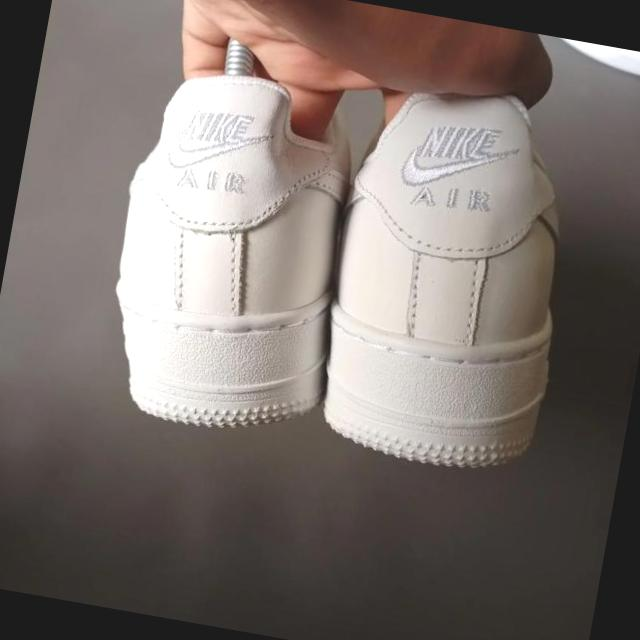nike_fake_airforce: (300, 69, 598, 483), (83, 51, 372, 451)
